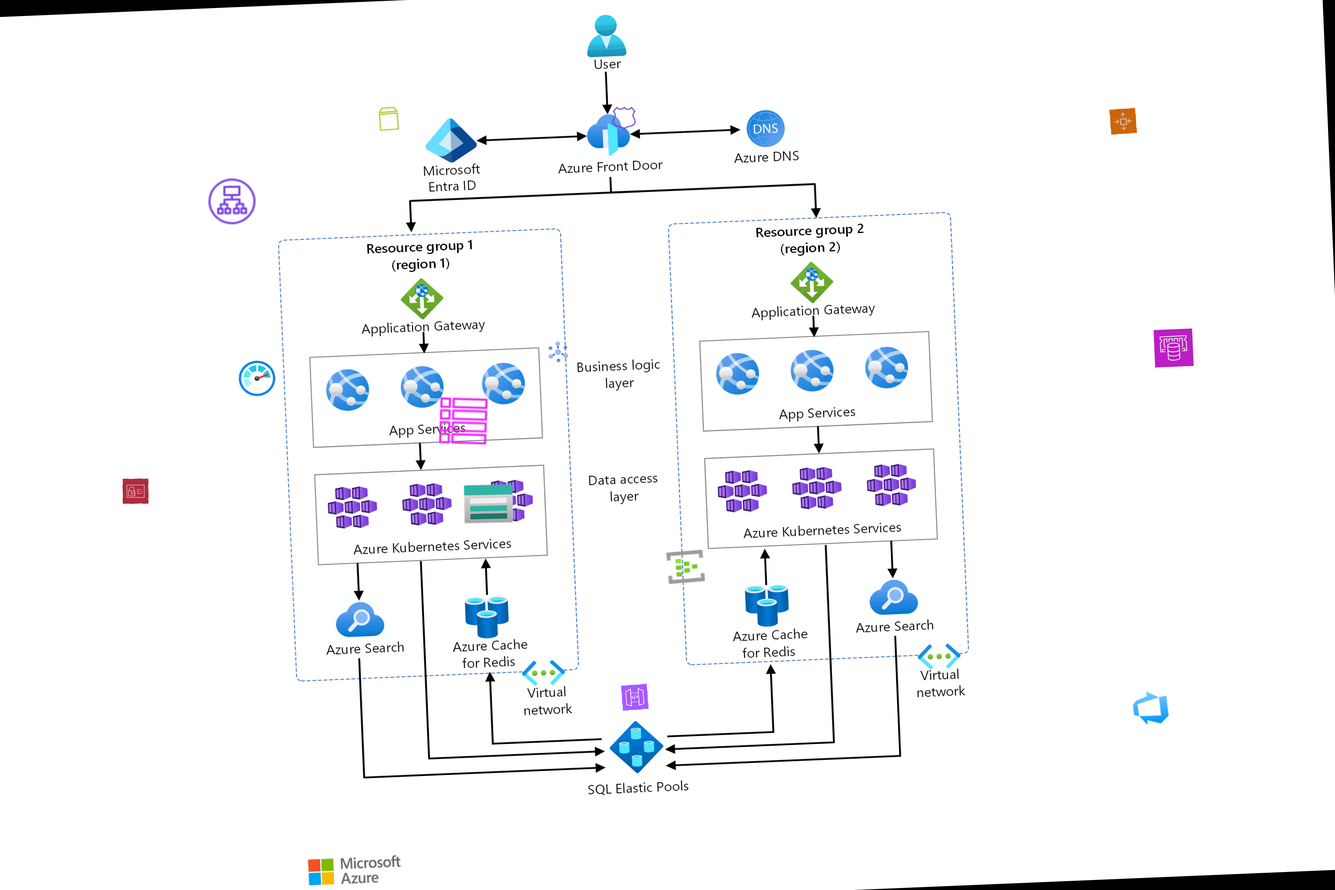aws_amazon_api_gateway: (621, 683, 648, 711)
aws_amazon_ec2_auto_scaling: (1109, 108, 1137, 135)
aws_amazon_elasticache: (1153, 328, 1194, 368)
aws_dynamodb_table: (435, 393, 492, 449)
aws_elastic_block_store_volume: (375, 105, 402, 132)
aws_elastic_load_balancing_application_load_balancer: (204, 174, 259, 228)
aws_identity_and_access_management: (122, 478, 149, 504)
aws_route_53_hosted_zone: (610, 104, 638, 132)
azure_devops: (1128, 687, 1172, 729)
azure_event_hubs: (664, 546, 706, 587)
azure_monitor: (236, 358, 278, 399)
azure_storage_accounts: (461, 477, 516, 530)
gcp_pubsub: (544, 338, 572, 365)
